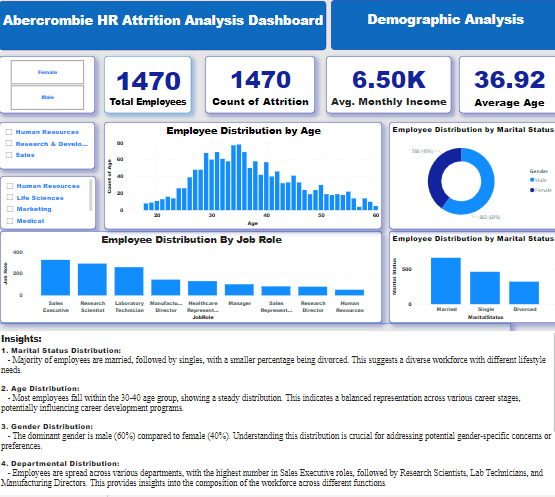

This screenshot's page, from the dashboard's own definition file:
{"tool":"powerbi","page":{"name":"Employee Demographics","canvas":[1400,1300],"ordinal":0},"visuals":[{"type":"shape","box":[0,813.8,1279.5,286.6],"z":0},{"type":"textbox","box":[829.1,7.7,570.7,125.4],"z":1000},{"type":"clusteredColumnChart","title":"Employee Distribution by Marital Status","fields":{"Category":["attrition_data.MaritalStatus"],"Y":["CountNonNull(attrition_data.MaritalStatus)"]},"box":[975,585,425,230],"z":2000},{"type":"card","fields":{"Values":["CountNonNull(attrition_data.Attrition)"]},"box":[515,147.5,275,142.5],"z":3000},{"type":"slicer","fields":{"Values":["attrition_data.Department"]},"box":[0,312.5,240,117.5],"z":4000},{"type":"slicer","fields":{"Values":["attrition_data.Gender"]},"box":[0,147.5,240,142.5],"z":5000},{"type":"slicer","fields":{"Values":["attrition_data.EducationField"]},"box":[2.5,447.5,240,132.5],"z":6000},{"type":"card","fields":{"Values":["Count(attrition_data.EmployeeNumber)"]},"box":[262.5,147.5,217.5,142.5],"z":7000},{"type":"textbox","box":[0,835,1400,465],"z":8000},{"type":"card","fields":{"Values":["Avg(attrition_data.MonthlyIncome)"]},"box":[817.5,147.5,312.5,142.5],"z":9000},{"type":"card","fields":{"Values":["Avg(attrition_data.Age)"]},"box":[1150,147.5,250,142.5],"z":10000},{"type":"clusteredColumnChart","title":"Employee Distribution By Job Role","fields":{"Category":["attrition_data.JobRole"],"Y":["CountNonNull(attrition_data.JobRole)"]},"box":[2.5,585,955,230],"z":11000},{"type":"clusteredColumnChart","title":"Employee Distribution by Age","fields":{"Category":["attrition_data.Age"],"Y":["CountNonNull(attrition_data.Age)"]},"box":[262.5,312.5,695,267.5],"z":12000},{"type":"textbox","box":[0,10,817.5,122.5],"z":13000},{"type":"donutChart","title":"Employee Distribution by Marital Status","fields":{"Category":["attrition_data.Gender"],"Y":["CountNonNull(attrition_data.Gender)"]},"box":[975,312.5,425,267.5],"z":14000}]}

Visuals, with their boxes on the page's 1400x1300 design canvas (x1, y1, x2, y2). These are canvas units, not pixel positions in the 555x497 screenshot, which may show the page scaled, cropped or inside an application window:
shape: box=[0, 814, 1280, 1100]
textbox: box=[829, 8, 1400, 133]
"Employee Distribution by Marital Status" clusteredColumnChart: box=[975, 585, 1400, 815]
card - CountNonNull(attrition_data.Attrition): box=[515, 148, 790, 290]
slicer - attrition_data.Department: box=[0, 312, 240, 430]
slicer - attrition_data.Gender: box=[0, 148, 240, 290]
slicer - attrition_data.EducationField: box=[2, 448, 242, 580]
card - Count(attrition_data.EmployeeNumber): box=[262, 148, 480, 290]
textbox: box=[0, 835, 1400, 1300]
card - Avg(attrition_data.MonthlyIncome): box=[818, 148, 1130, 290]
card - Avg(attrition_data.Age): box=[1150, 148, 1400, 290]
"Employee Distribution By Job Role" clusteredColumnChart: box=[2, 585, 958, 815]
"Employee Distribution by Age" clusteredColumnChart: box=[262, 312, 958, 580]
textbox: box=[0, 10, 818, 132]
"Employee Distribution by Marital Status" donutChart: box=[975, 312, 1400, 580]
